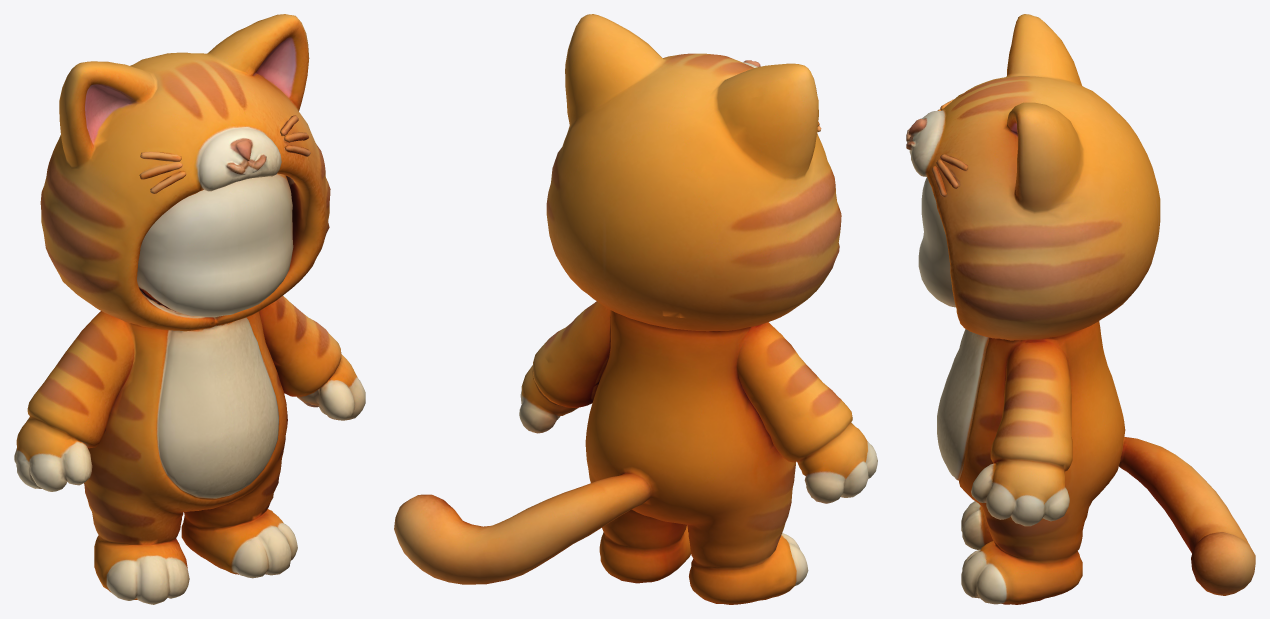
The model's file is cat.glb.
The picture shows the model from 3 angles, left to right: view 1: azimuth 30°, elevation 25°; view 2: azimuth 150°, elevation 25°; view 3: azimuth 270°, elevation 25°; orthographic projection. The views are drawn at different scales.
Parts seen in each view (by area): view 1: tripo_node_968d05e0-8331-4e4b-bce7-71109d281fb6; view 2: tripo_node_968d05e0-8331-4e4b-bce7-71109d281fb6; view 3: tripo_node_968d05e0-8331-4e4b-bce7-71109d281fb6.
Boxes of the visible parts, x1,y1,x2,y2 form: tripo_node_968d05e0-8331-4e4b-bce7-71109d281fb6: (14,14,365,604); tripo_node_968d05e0-8331-4e4b-bce7-71109d281fb6: (394,14,877,604); tripo_node_968d05e0-8331-4e4b-bce7-71109d281fb6: (906,14,1255,604).
Bounding box in the file's own units: 0.6907 × 0.9777 × 0.6103.
1 material, 1 textured.
